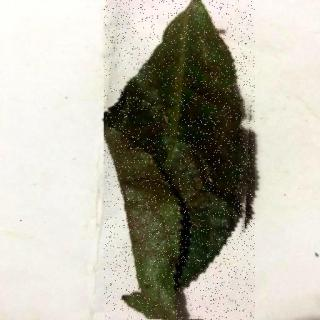Red Leaf Spot: (105, 1, 256, 320)
